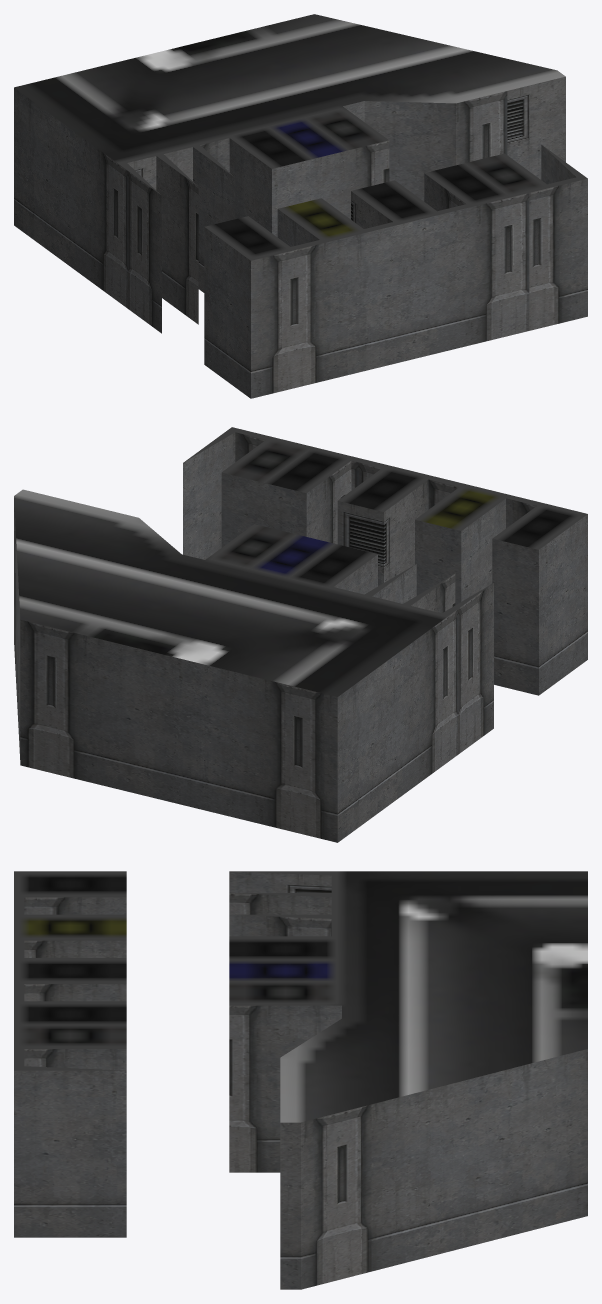
The model's file is BuildingSystem-03-Advance-04-ReinforcedMedium-A-120-02.glb.
3 views of the same model, one above another, from view 1: azimuth 30°, elevation 25°; view 2: azimuth 150°, elevation 25°; view 3: azimuth 270°, elevation 25° (orthographic). The views are drawn at different scales.
Visible parts, largest first — view 1: buildings/saxarba/SMV_Buildings/BuildingSystem-03-Advance-04; view 2: buildings/saxarba/SMV_Buildings/BuildingSystem-03-Advance-04; view 3: buildings/saxarba/SMV_Buildings/BuildingSystem-03-Advance-04.
Part boxes in pixels (x1,y1,x2,y2): buildings/saxarba/SMV_Buildings/BuildingSystem-03-Advance-04: [14, 14, 587, 398]; buildings/saxarba/SMV_Buildings/BuildingSystem-03-Advance-04: [14, 427, 587, 842]; buildings/saxarba/SMV_Buildings/BuildingSystem-03-Advance-04: [14, 871, 587, 1289].
Bounding box in the file's own units: 58 × 18 × 56.
